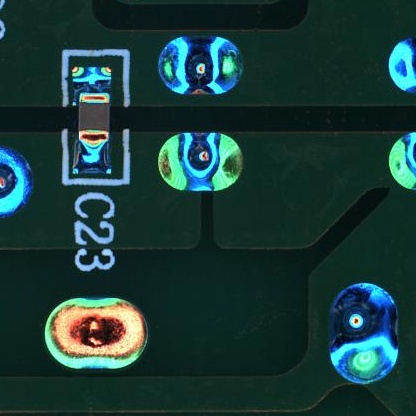spot: (43, 297, 149, 371), (329, 282, 400, 386), (156, 33, 246, 96), (157, 132, 243, 192), (1, 143, 35, 221), (386, 37, 416, 97), (388, 131, 416, 189)
